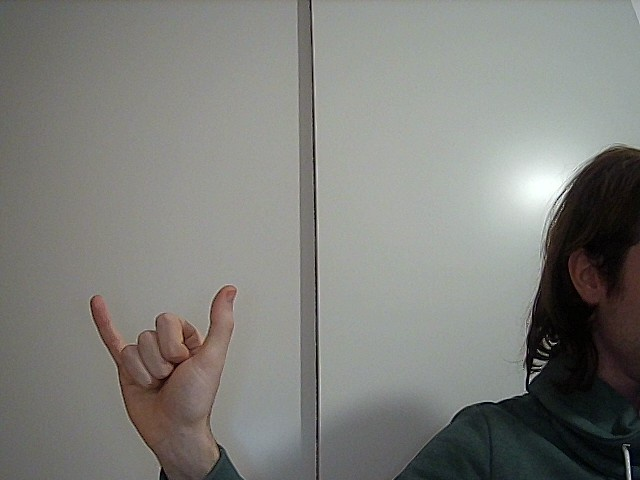y: (80, 279, 249, 435)
